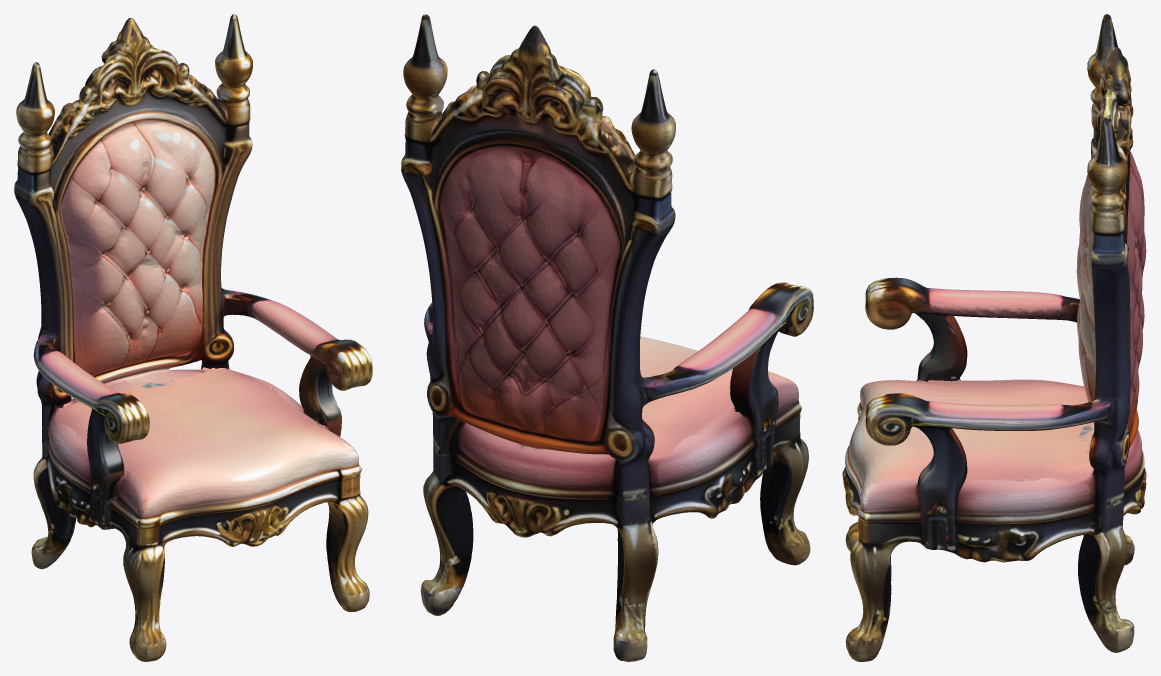
Rendered from chair_hunyuan3d-2.0.glb.
The picture shows the model from 3 angles, left to right: view 1: azimuth 30°, elevation 25°; view 2: azimuth 150°, elevation 25°; view 3: azimuth 270°, elevation 25°; orthographic projection. The views are drawn at different scales.
Visible parts, largest first — view 1: temp_mesh.ply; view 2: temp_mesh.ply; view 3: temp_mesh.ply.
Part boxes in pixels (x1=…): temp_mesh.ply: x1=14, y1=14, x2=372, y2=661; temp_mesh.ply: x1=401, y1=14, x2=813, y2=661; temp_mesh.ply: x1=842, y1=14, x2=1146, y2=661.
Bounding box in the file's own units: 1.01 × 2 × 0.9844.
1 material, 1 textured.
